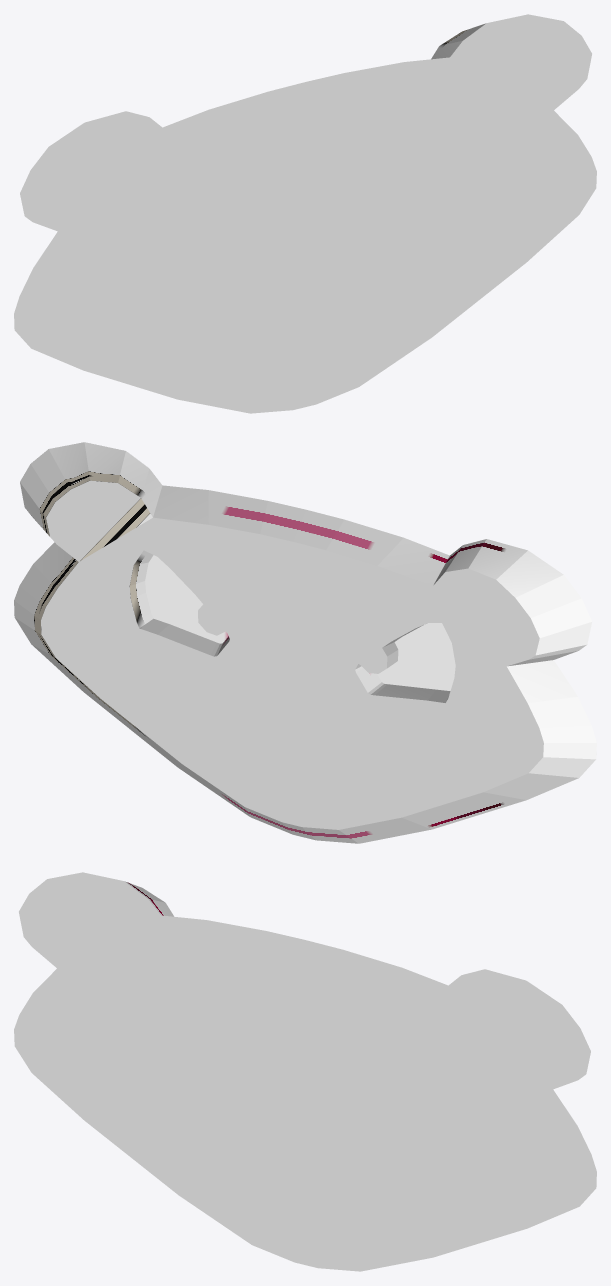
The model's file is svicon2.ico.obj.
3 views of the same model, one above another, from view 1: azimuth 30°, elevation 25°; view 2: azimuth 150°, elevation 25°; view 3: azimuth 330°, elevation 25° (orthographic).
Bounding box in the file's own units: 2.58 × 1.45 × 0.1357.
